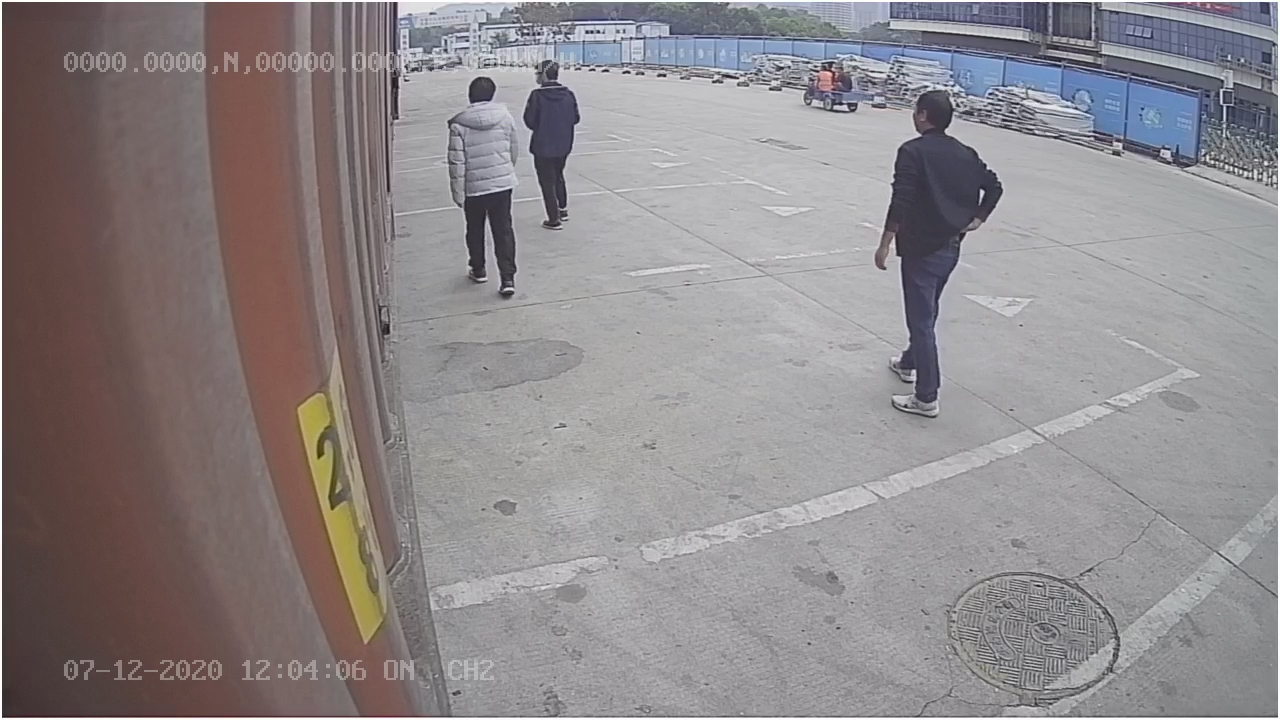person: (875, 89, 1004, 417), (442, 75, 520, 299)
